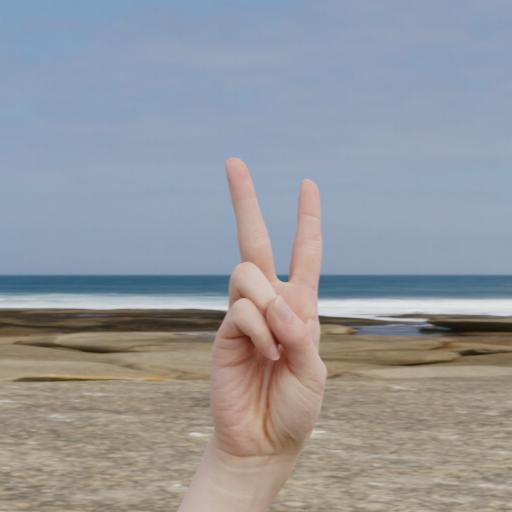V: (179, 141, 360, 479)
